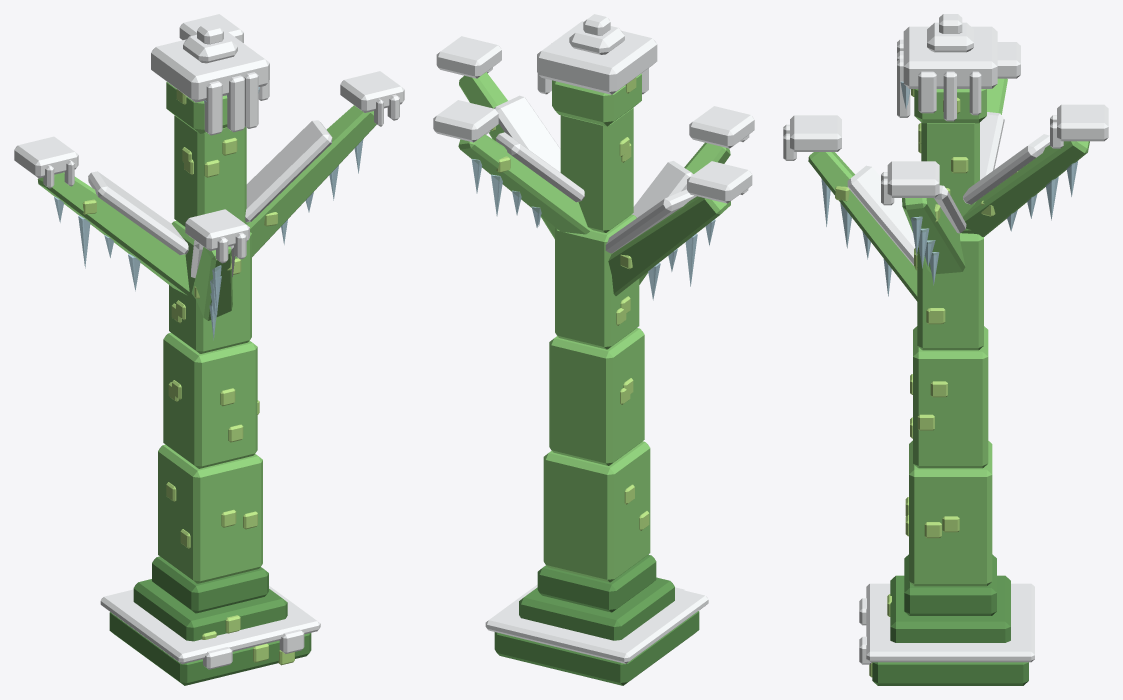
Rendered from SnowIcicleTree.fbx.
3 views of the same model, side by side, from view 1: azimuth 30°, elevation 25°; view 2: azimuth 150°, elevation 25°; view 3: azimuth 270°, elevation 25° (orthographic). The views are drawn at different scales.
Parts seen in each view (by area): view 1: SnowIcicleTree.Trunk, SnowIcicleTree.Snow, SnowIcicleTree.Base, SnowIcicleTree.Studs, SnowIcicleTree.Icicles; view 2: SnowIcicleTree.Trunk, SnowIcicleTree.Snow, SnowIcicleTree.Base, SnowIcicleTree.Icicles, SnowIcicleTree.Studs; view 3: SnowIcicleTree.Trunk, SnowIcicleTree.Snow, SnowIcicleTree.Base, SnowIcicleTree.Studs, SnowIcicleTree.Icicles.
Boxes of the visible parts, x1,y1,x2,y2 form: SnowIcicleTree.Trunk: (37, 82, 376, 583); SnowIcicleTree.Snow: (14, 14, 404, 669); SnowIcicleTree.Base: (109, 556, 311, 685); SnowIcicleTree.Studs: (82, 89, 294, 665); SnowIcicleTree.Icicles: (54, 87, 363, 340); SnowIcicleTree.Trunk: (458, 72, 730, 582); SnowIcicleTree.Snow: (433, 14, 754, 663); SnowIcicleTree.Base: (494, 554, 699, 685); SnowIcicleTree.Icicles: (471, 159, 715, 300); SnowIcicleTree.Studs: (491, 77, 649, 530); SnowIcicleTree.Trunk: (808, 78, 1089, 586); SnowIcicleTree.Snow: (783, 14, 1108, 664); SnowIcicleTree.Base: (872, 554, 1028, 685); SnowIcicleTree.Studs: (835, 89, 1017, 677); SnowIcicleTree.Icicles: (821, 81, 1077, 296).
Bounding box in the file's own units: 6.37 × 11.4 × 5.27.
